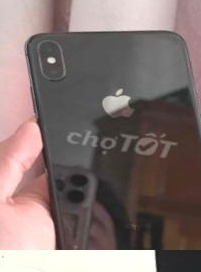scratch: (0, 250, 21, 272)
